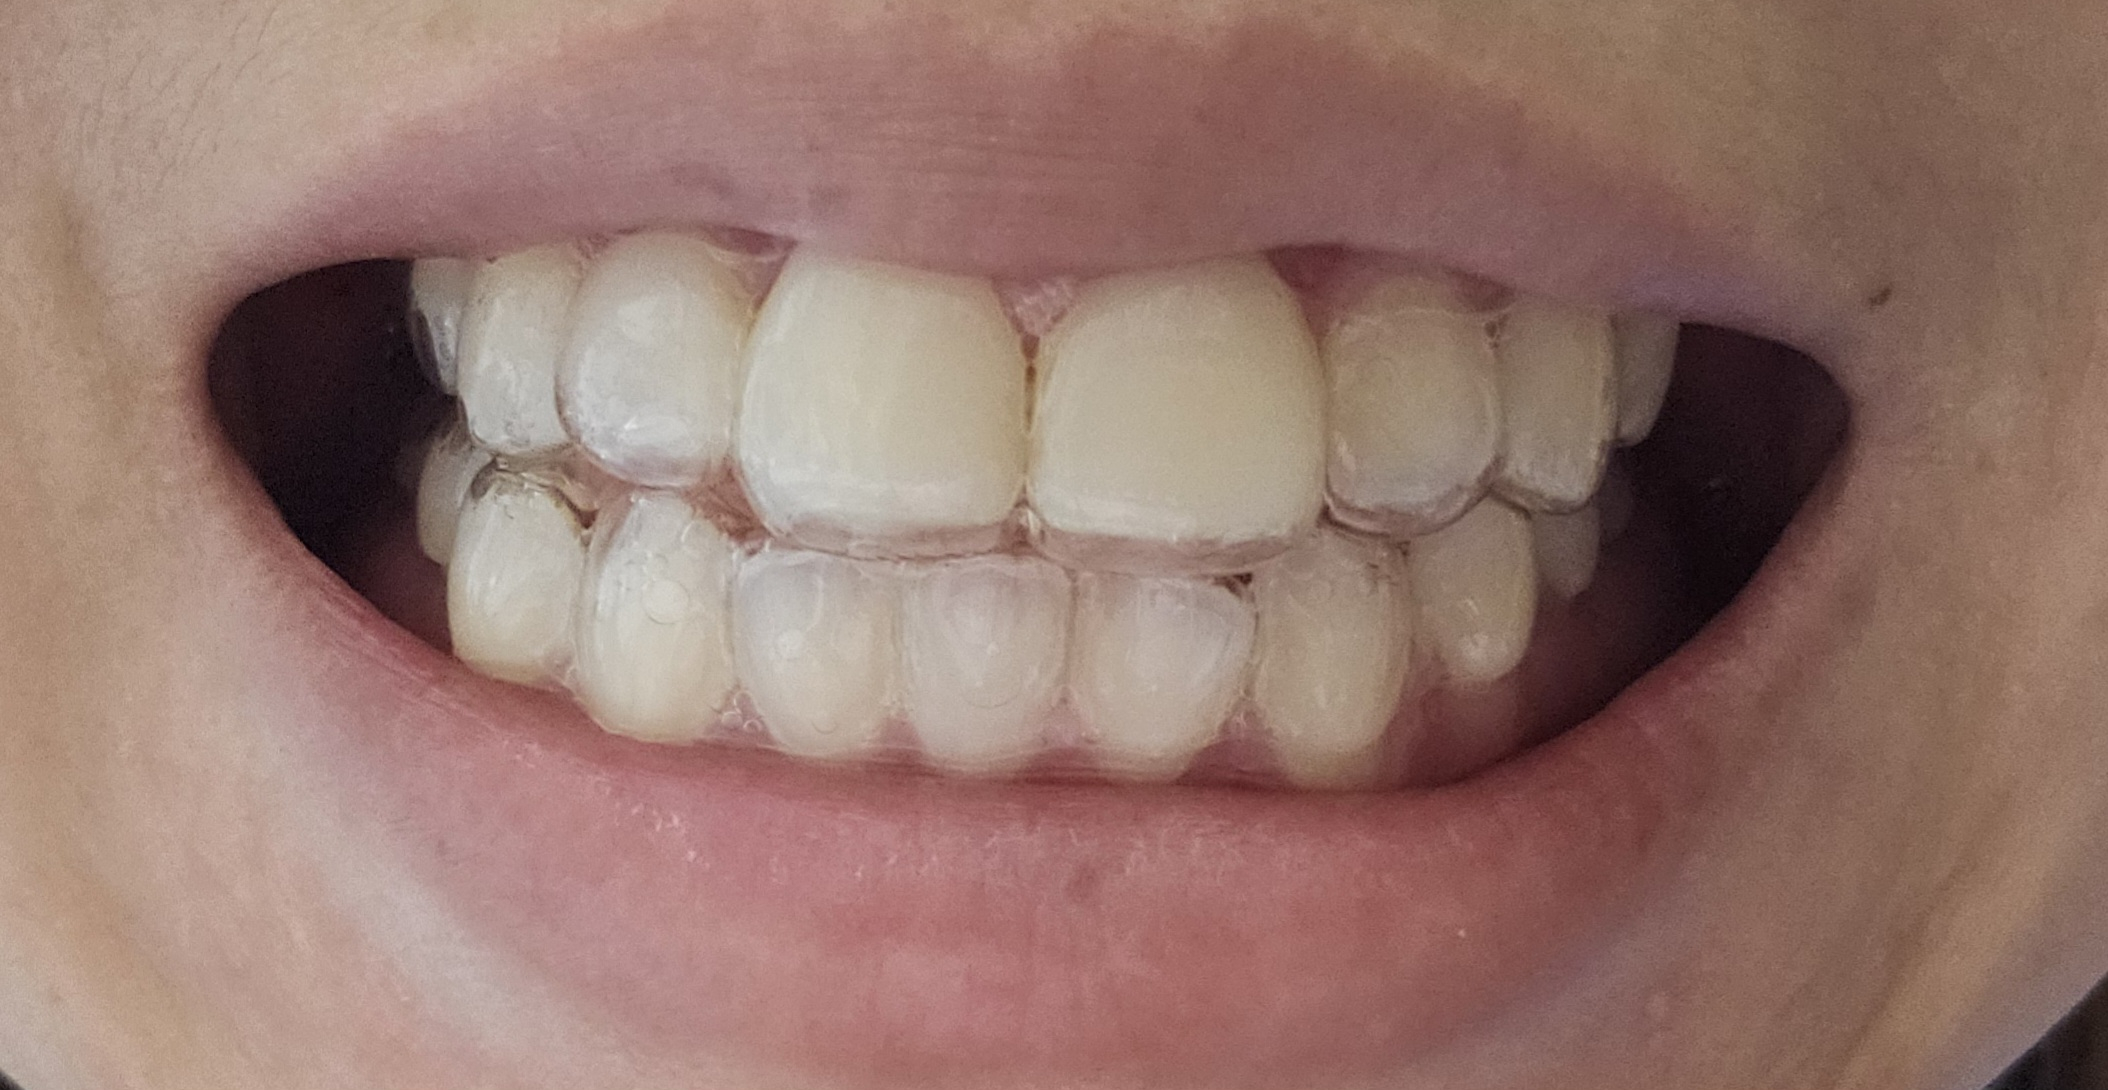teeth: (1027, 270, 1324, 558), (749, 247, 1030, 535), (1323, 271, 1504, 526), (563, 238, 748, 473), (579, 491, 730, 737), (1246, 532, 1409, 751), (905, 576, 1063, 780), (1073, 581, 1237, 777), (734, 556, 889, 758), (447, 467, 579, 684), (453, 243, 579, 456), (1506, 298, 1615, 503), (1412, 505, 1534, 676), (1620, 325, 1681, 428), (1538, 509, 1598, 592)
